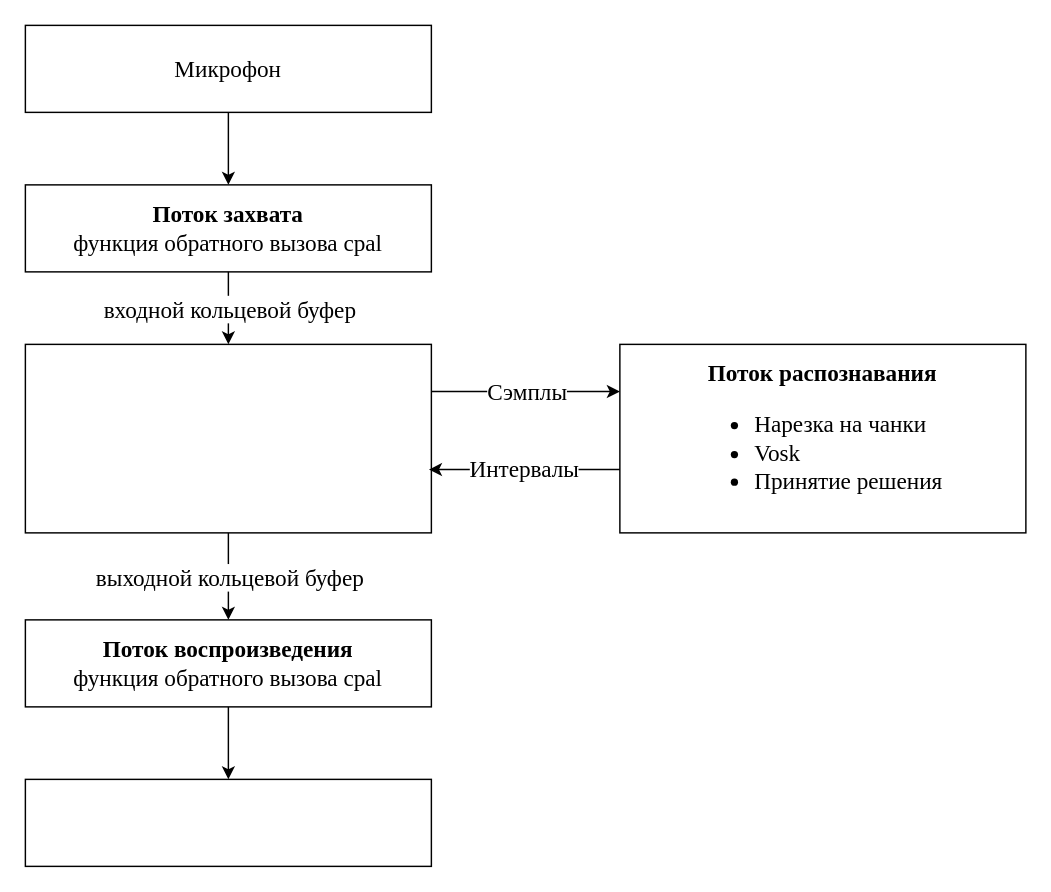
This 1051x892 diagram has some shape labels left out. The box of each missing label's shape, as (x1, y1, x2, y2) in pixels:
Оркестратор Буфер задержки Маскирование Компенсация дрейфа: (24, 343, 431, 533)
Устройства вывода: (24, 778, 431, 866)
